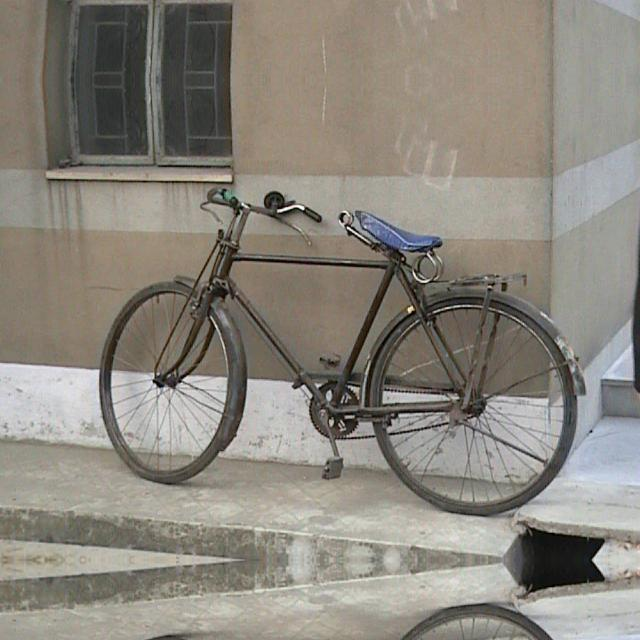obstacle: (86, 169, 610, 551), (86, 569, 610, 640)
